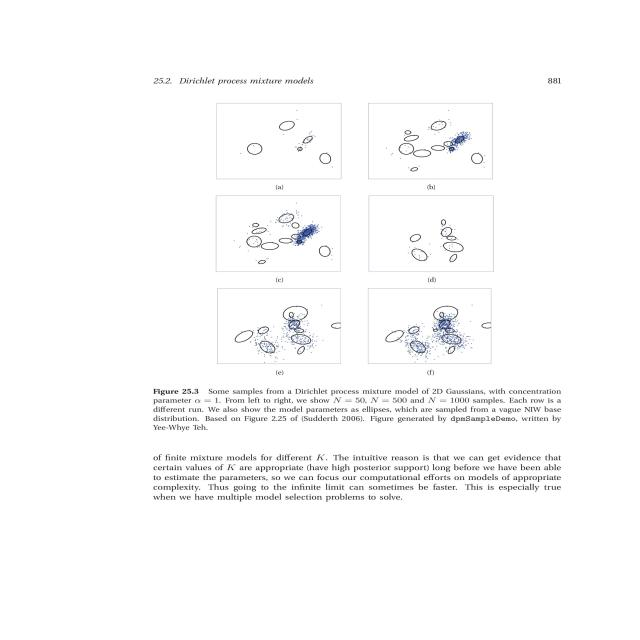diagram: (134, 93, 633, 445)
